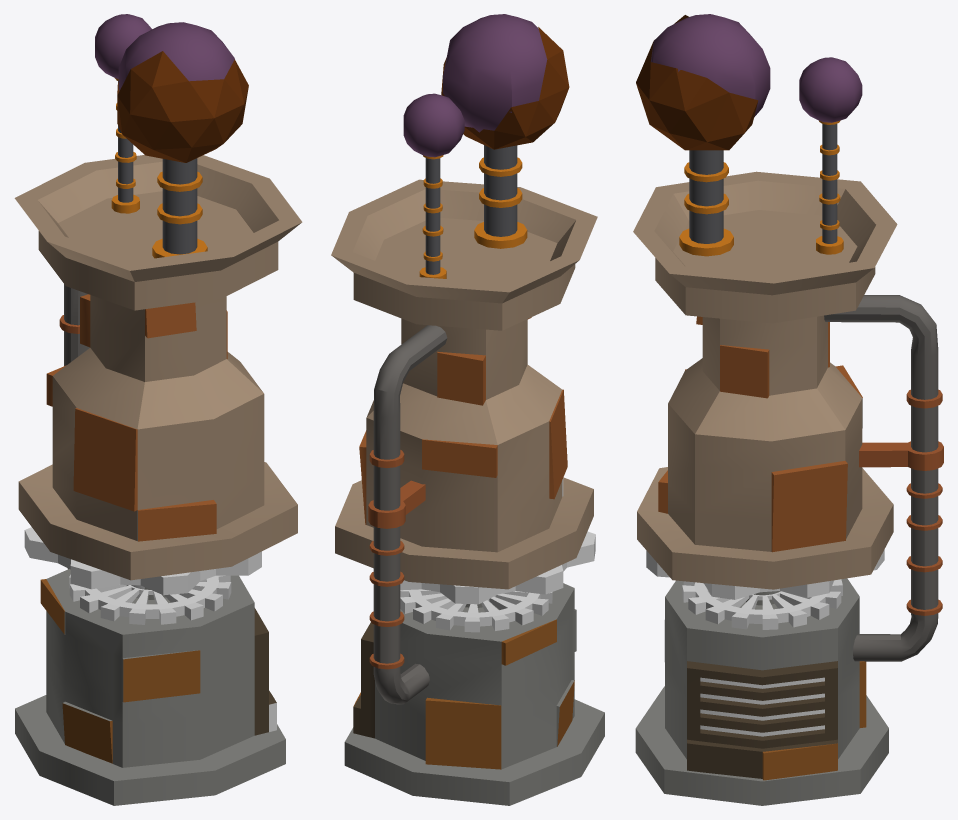
Rendered from Tesla Tower.fbx.
3 views of the same model, side by side, from view 1: azimuth 30°, elevation 25°; view 2: azimuth 150°, elevation 25°; view 3: azimuth 270°, elevation 25° (orthographic). The views are drawn at different scales.
Visible parts, largest first — view 1: Tower.001, Tower.002, Gear, Gear.001, EngingePump; view 2: Tower.001, Tower.002, EngingePump, Gear, Gear.001; view 3: Tower.001, Tower.002, EngingePump, Gear, Gear.001.
Part boxes in pixels (bbox=[...]): Tower.001: bbox=[14, 155, 302, 805]; Tower.002: bbox=[95, 14, 248, 258]; Gear: bbox=[69, 574, 231, 624]; Gear.001: bbox=[24, 527, 261, 595]; EngingePump: bbox=[59, 284, 89, 569]; Tower.001: bbox=[331, 179, 604, 805]; Tower.002: bbox=[403, 14, 569, 278]; EngingePump: bbox=[368, 325, 447, 704]; Gear: bbox=[400, 589, 552, 632]; Gear.001: bbox=[400, 531, 595, 604]; Tower.001: bbox=[633, 171, 897, 805]; Tower.002: bbox=[636, 14, 862, 256]; EngingePump: bbox=[824, 295, 943, 661]; Gear: bbox=[682, 579, 842, 629]; Gear.001: bbox=[646, 549, 884, 599].
Size of the model in its own units: 3.78 by 11.33 by 4.36.
